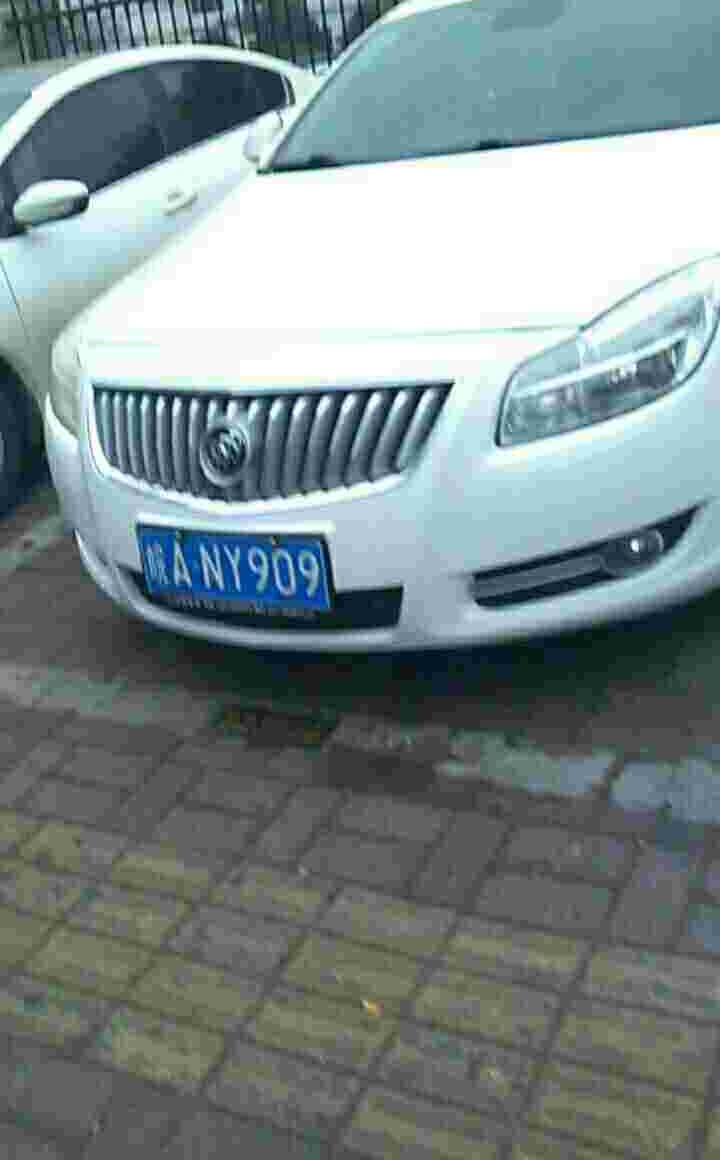license_plate: (135, 525, 338, 619)
